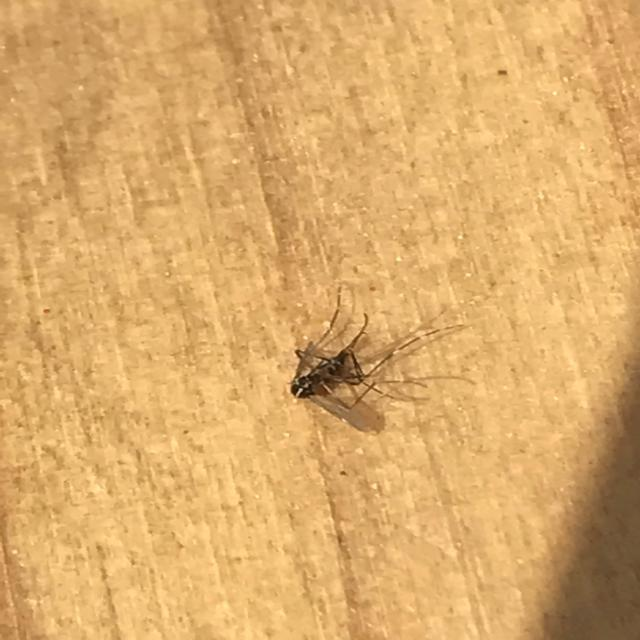albopictus: (278, 286, 483, 431)
